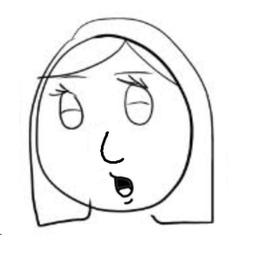eye: (44, 81, 89, 135), (112, 77, 158, 127)
eyebrow: (107, 70, 154, 76), (62, 73, 92, 81)
nose: (92, 128, 131, 168)
open_mouth: (103, 171, 138, 199)
